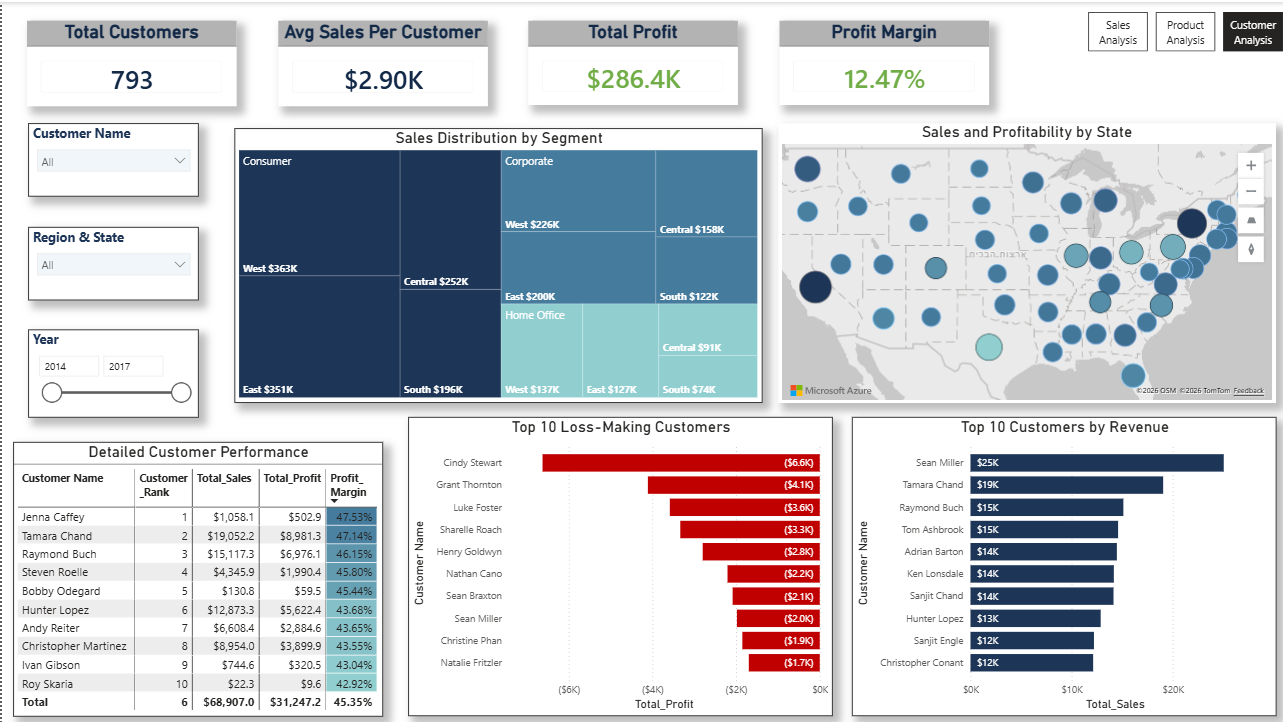

Layout of this report page (visuals, bound fields, positions):
{"tool":"powerbi","page":{"name":"Customer Analysis","canvas":[1600,900],"ordinal":2},"visuals":[{"type":"azureMap","title":"Sales and Profitability by State","fields":{"Category":["Superstore.Geographic Hierarchy.Country","Superstore.Geographic Hierarchy.Region","Superstore.Geographic Hierarchy.State","Superstore.Geographic Hierarchy.City"],"Size":["Measures!.Total_Sales"]},"box":[965,150.6,619.2,348.2],"z":0},{"type":"cardVisual","title":"Profit Margin","fields":{"Data":["Measures!.Profit_Margin"]},"box":[967.5,23.5,260.7,104.6],"z":1000},{"type":"treemap","title":"Sales Distribution by Segment","fields":{"Group":["Superstore.Segment","Superstore.Customer Name"],"Values":["Measures!.Total_Sales"],"Details":["Superstore.Region"]},"box":[289.9,157.8,656.9,341.3],"z":2000},{"type":"cardVisual","title":"Total Profit","fields":{"Data":["Measures!.Total_Profit"]},"box":[655.3,23.5,260.7,104.6],"z":3000},{"type":"clusteredBarChart","title":"Top 10 Customers by Revenue","fields":{"Category":["Superstore.Customer Name"],"Y":["Measures!.Total_Sales"]},"box":[1056.6,516.3,528.3,372.2],"z":4000},{"type":"cardVisual","title":"Total Customers","fields":{"Data":["Measures!.Total_Customers"]},"box":[30.9,22.6,260.7,106.3],"z":5000},{"type":"clusteredBarChart","title":" Top 10 Loss-Making Customers","fields":{"Category":["Superstore.Customer Name"],"Y":["Measures!.Total_Profit"]},"box":[506,516.3,528.3,372.2],"z":6000},{"type":"cardVisual","title":"Avg Sales Per Customer","fields":{"Data":["Measures!.Avg_Sales_Per_Customer"]},"box":[343.1,22.6,260.7,106.3],"z":7000},{"type":"pivotTable","title":" Detailed Customer Performance","fields":{"Values":["Measures!.Customer_Rank","Measures!.Total_Sales","Measures!.Total_Profit","Measures!.Profit_Margin"],"Rows":["Superstore.Customer Name"]},"box":[14,534.8,474.4,353.6],"z":8000},{"type":"slicer","title":"Region & State","fields":{"Values":["Superstore.Geographic Hierarchy.Region","Superstore.Geographic Hierarchy.State","Superstore.Geographic Hierarchy.City"]},"box":[32.7,272.1,213,90.2],"z":9000},{"type":"slicer","title":"Customer Name","fields":{"Values":["Superstore.Customer Name"]},"box":[33,150.8,212,91.1],"z":10000},{"type":"slicer","title":"Year","fields":{"Values":["DateTable.Year"]},"box":[32.7,391.8,213,124.4],"z":11000},{"type":"pageNavigator","box":[1351.3,12.4,242.6,49.8],"z":12000},{"type":"actionButton","box":[1391.3,78.3,163.5,50.4],"z":13000}]}

Visuals, with their boxes in screenshot pixels (x1, y1, x2, y2), scaled from the page's 1600x900 canvas onto the 1283x722 screenshot:
"Sales and Profitability by State" azureMap: rect(774, 121, 1270, 400)
"Profit Margin" cardVisual: rect(776, 19, 985, 103)
"Sales Distribution by Segment" treemap: rect(232, 127, 759, 400)
"Total Profit" cardVisual: rect(525, 19, 735, 103)
"Top 10 Customers by Revenue" clusteredBarChart: rect(847, 414, 1271, 713)
"Total Customers" cardVisual: rect(25, 18, 234, 103)
" Top 10 Loss-Making Customers" clusteredBarChart: rect(406, 414, 829, 713)
"Avg Sales Per Customer" cardVisual: rect(275, 18, 484, 103)
" Detailed Customer Performance" pivotTable: rect(11, 429, 392, 713)
"Region & State" slicer: rect(26, 218, 197, 291)
"Customer Name" slicer: rect(26, 121, 196, 194)
"Year" slicer: rect(26, 314, 197, 414)
pageNavigator: rect(1084, 10, 1278, 50)
actionButton: rect(1116, 63, 1247, 103)
